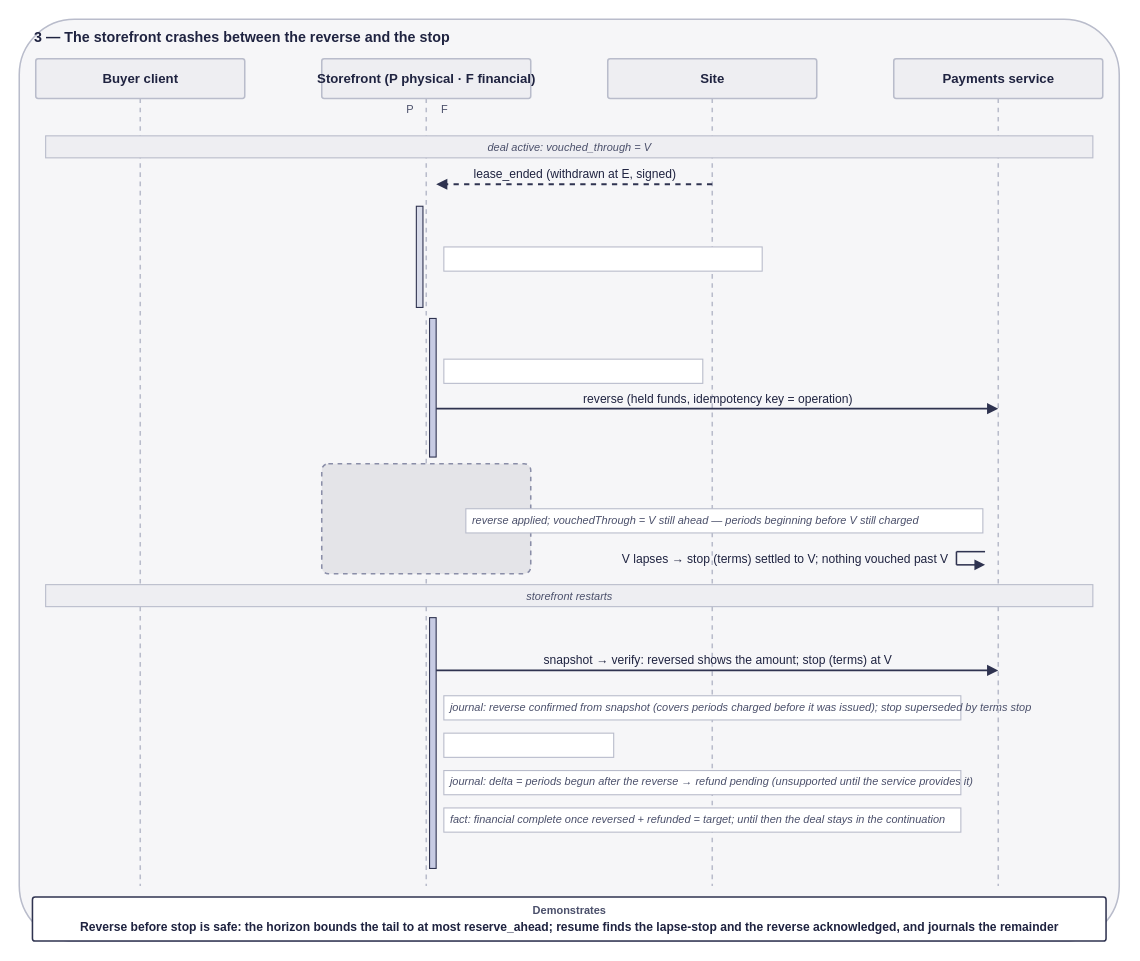
Some shapes in this 1140 by 961 pixel diagram are drawn without their labels. The shapes that lost their labels are listed below. From the top down, each one's box as (x1, y1, x2, y2) in pixels, then its label:
(443, 246, 762, 271): request log: site end at E; fact: physical complete
(443, 358, 703, 383): journal: reverse pending (excess after E)
(320, 462, 531, 574): storefront down (crash before stop)
(443, 732, 614, 757): target = periods in [E, V)
